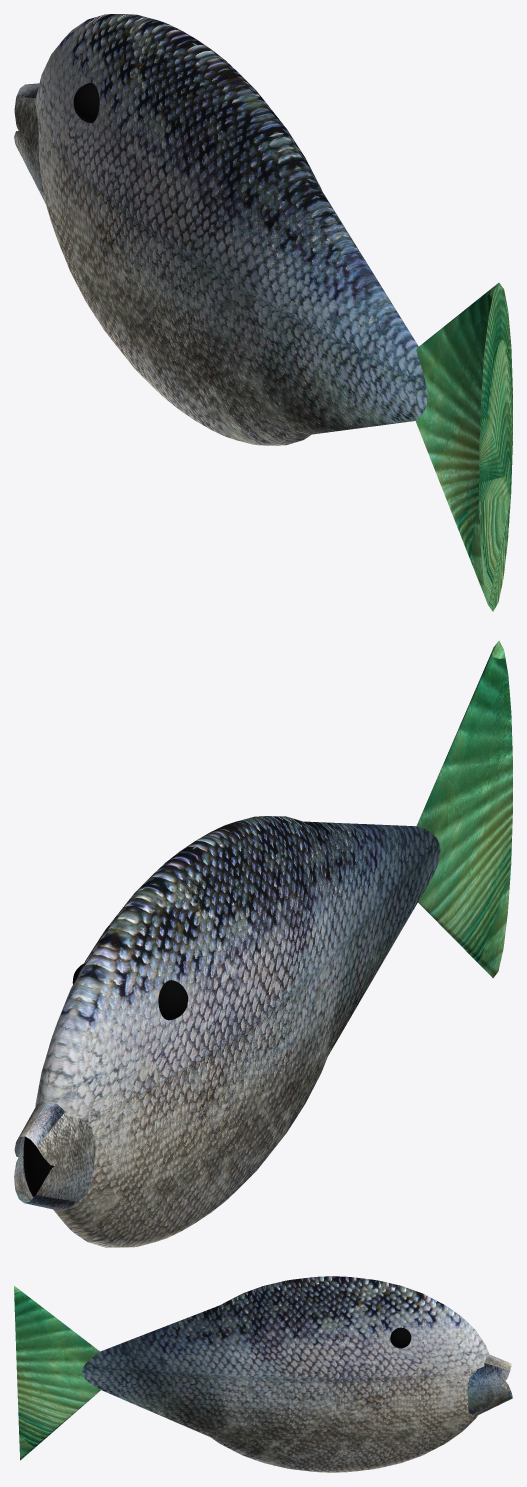
File: Fish1.fbx
The picture shows the model from 3 angles, top to bottom: view 1: azimuth 30°, elevation 25°; view 2: azimuth 150°, elevation 25°; view 3: azimuth 270°, elevation 25°; orthographic projection. The views are drawn at different scales.
Visible parts, largest first — view 1: pSphere1, pCone1, pCone2, pCone3, pSphere3; view 2: pSphere1, pCone2, pCone1, pCone3, pSphere2, pSphere3; view 3: pSphere1, pCone1, pCone2, pCone3, pSphere4.
Part boxes in pixels (x1,y1,x2,y2): pSphere1: (35,14,321,445); pCone1: (208,176,427,434); pCone2: (415,283,512,611); pCone3: (14,83,45,203); pSphere3: (73,83,99,122); pSphere1: (35,816,338,1247); pCone2: (416,640,512,977); pCone1: (293,821,440,1095); pCone3: (14,1100,95,1210); pSphere2: (23,1136,53,1197); pSphere3: (158,980,187,1020); pSphere1: (208,1276,489,1472); pCone1: (82,1305,269,1437); pCone2: (14,1286,100,1460); pCone3: (467,1355,512,1416); pSphere4: (390,1327,411,1348).
Size of the model in its own units: 0.6226 by 2 by 4.65.
Materials: 6 (4 with a texture image).
